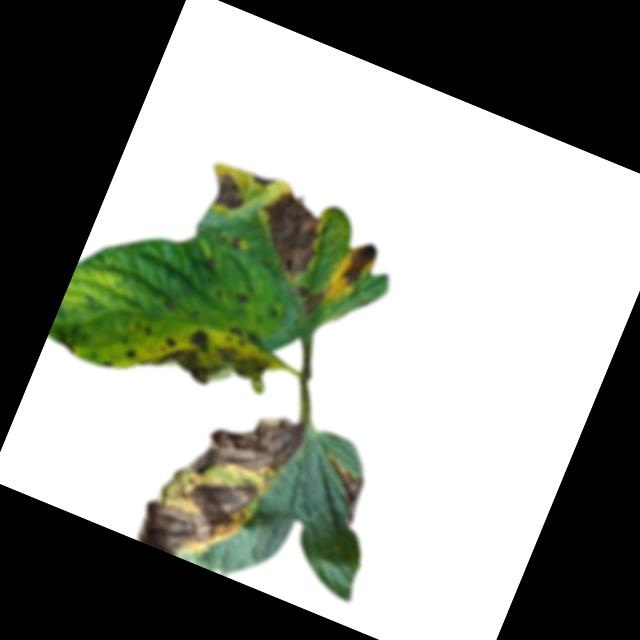Early_blight: (132, 383, 307, 583), (141, 312, 273, 409), (239, 181, 332, 282), (305, 452, 374, 528), (337, 236, 380, 293), (208, 171, 254, 218), (285, 281, 326, 319), (249, 170, 277, 191), (53, 335, 78, 355), (227, 324, 245, 341), (226, 235, 242, 252), (123, 347, 139, 363), (234, 292, 250, 308), (159, 300, 175, 312)
